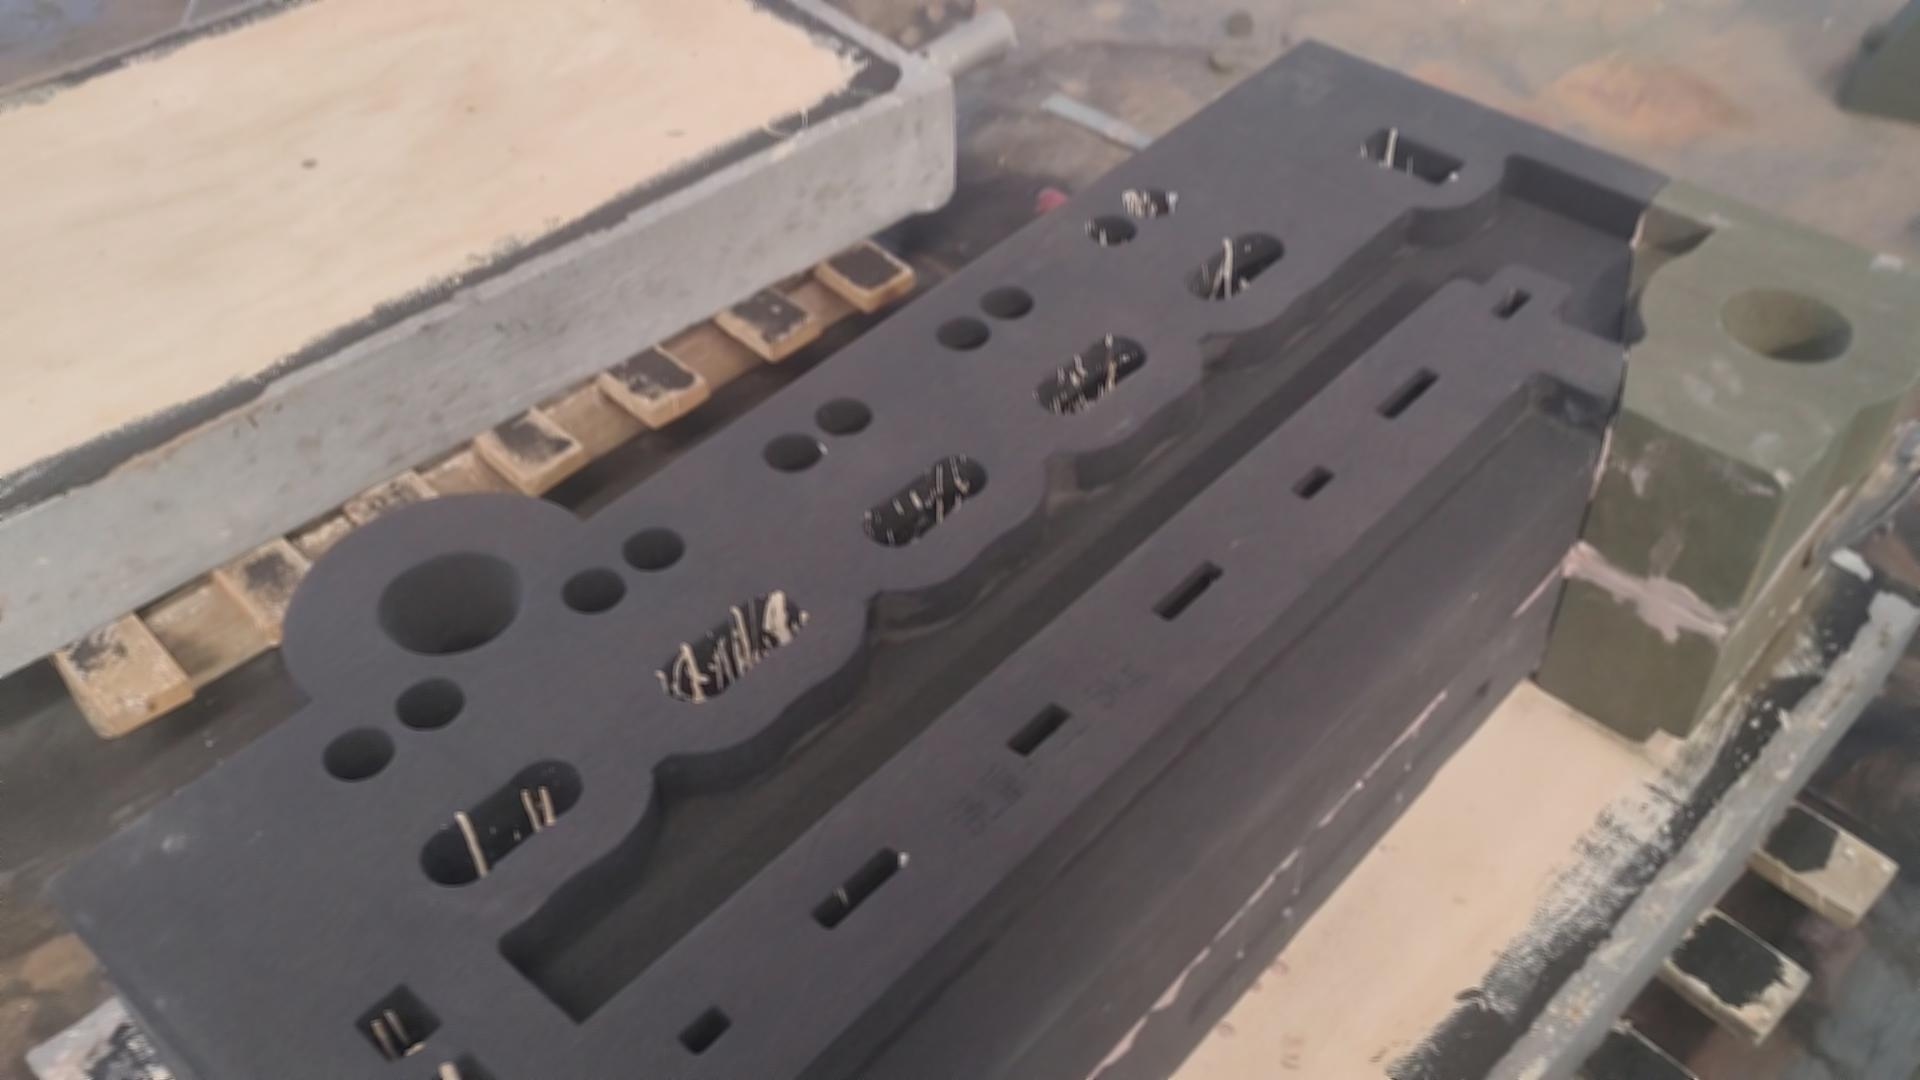pouring hole: (377, 553, 524, 657), (1720, 286, 1854, 363)
